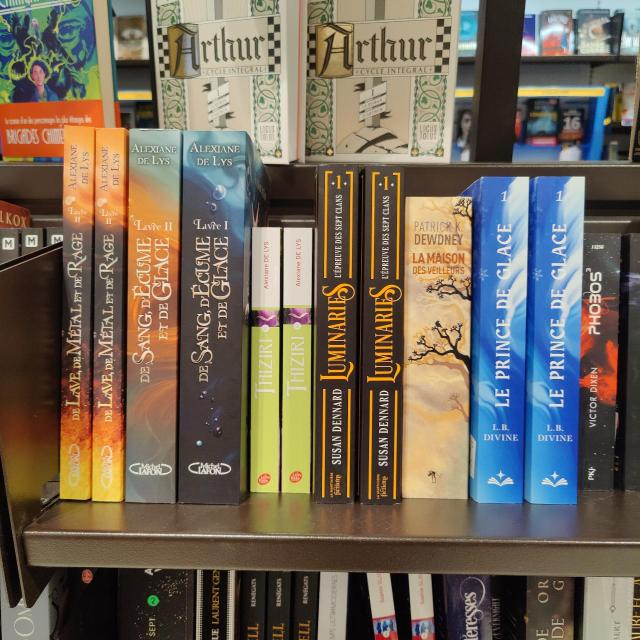book: (401, 196, 471, 498), (125, 129, 181, 503), (182, 132, 238, 503), (477, 176, 530, 501), (533, 175, 584, 503), (314, 164, 358, 504), (361, 165, 404, 502), (59, 125, 96, 500), (91, 129, 124, 502), (580, 233, 621, 492), (281, 228, 312, 493), (252, 227, 278, 491)
